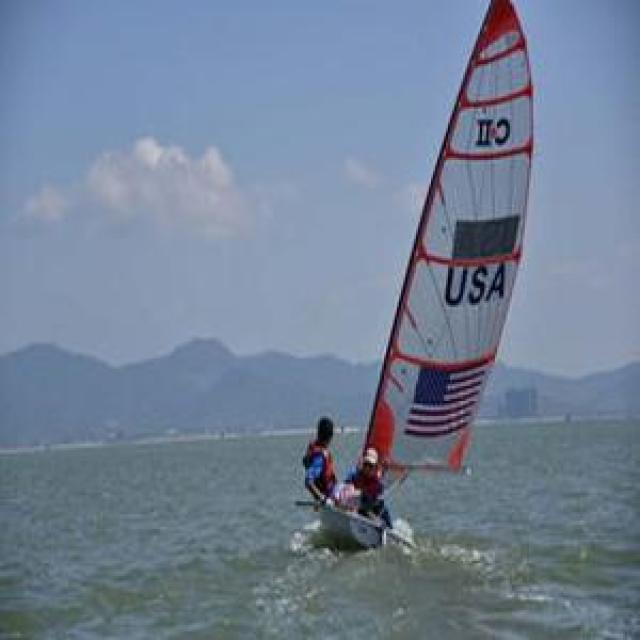sailboat: (296, 0, 537, 548)
